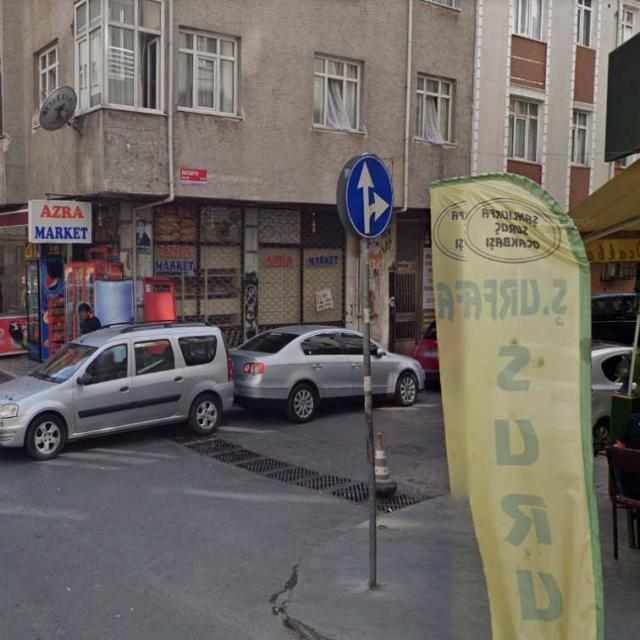ilerisag: (346, 156, 392, 238)
